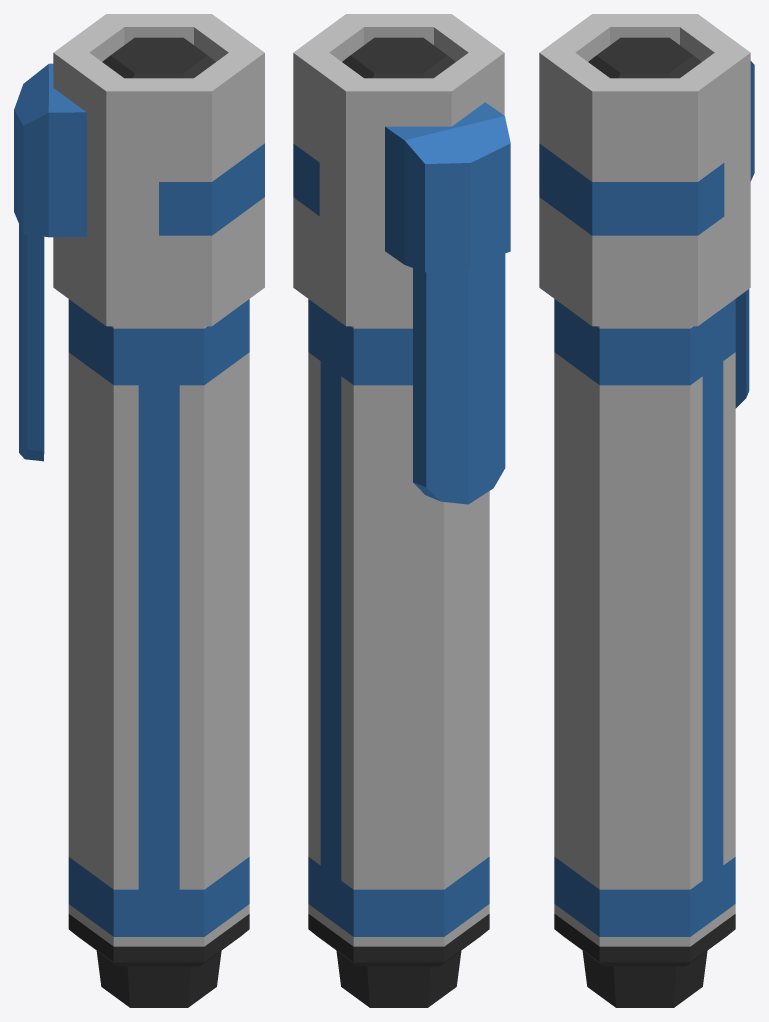
The model's file is Int_OfficeMarker01_2.fbx.
3 renders of one model, left to right at view 1: azimuth 30°, elevation 25°; view 2: azimuth 150°, elevation 25°; view 3: azimuth 270°, elevation 25°, orthographic.
Visible parts, largest first — view 1: Int_OfficeMarker01_2; view 2: Int_OfficeMarker01_2; view 3: Int_OfficeMarker01_2.
Part boxes in pixels (<box>): Int_OfficeMarker01_2: <box>14,14,264,1007</box>; Int_OfficeMarker01_2: <box>293,14,510,1007</box>; Int_OfficeMarker01_2: <box>539,14,754,1007</box>.
Size of what is drawn, in the model's own units: 5.69 by 5.22 by 25.
